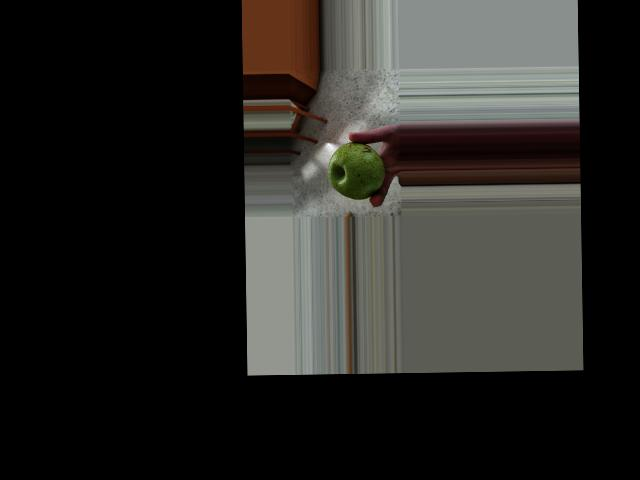apple: (326, 141, 386, 202)
